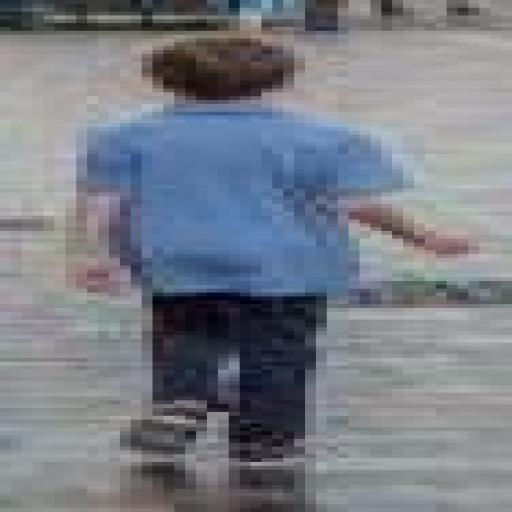person: (77, 35, 468, 465), (371, 0, 403, 15)
